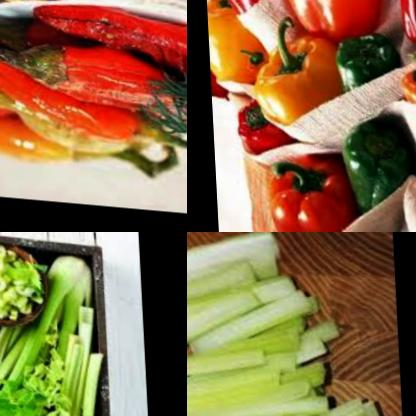bell pepper: (244, 19, 339, 130), (330, 110, 413, 215), (255, 146, 351, 232), (203, 0, 270, 91), (326, 23, 399, 101), (276, 0, 389, 45), (227, 95, 284, 160), (384, 0, 414, 39), (392, 54, 416, 97)
celery: (187, 232, 403, 416), (0, 240, 107, 416), (41, 294, 105, 416), (0, 234, 43, 331)
hot pepper: (0, 47, 187, 167), (0, 19, 187, 129), (27, 0, 187, 107), (0, 81, 166, 177), (0, 46, 56, 136)
